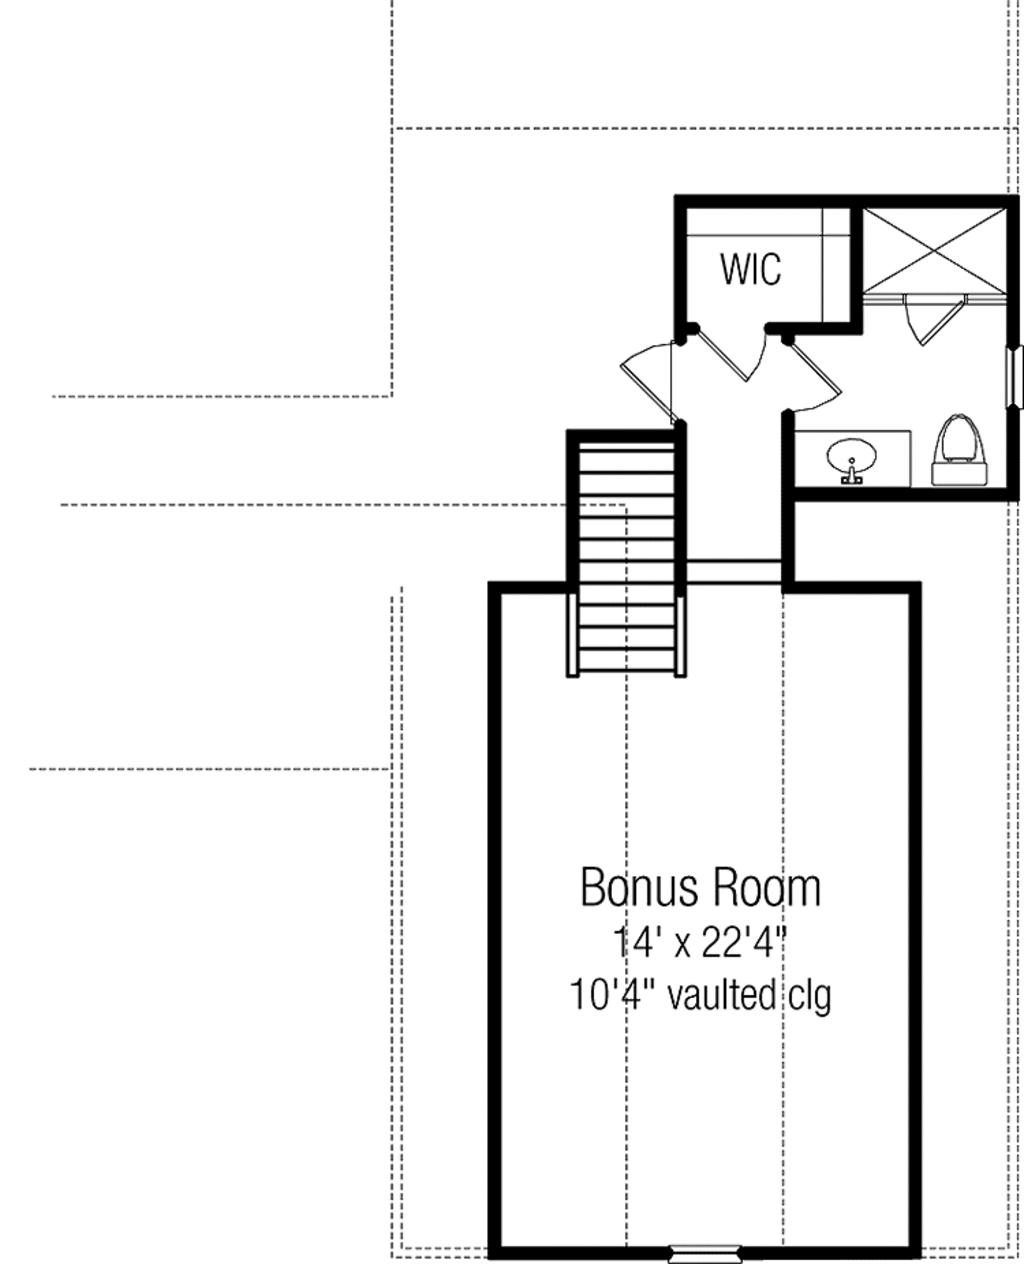door: (781, 332, 845, 418), (618, 333, 681, 418), (691, 320, 770, 385), (905, 291, 964, 349)
large_sink: (920, 401, 995, 491)
small_sink: (810, 432, 899, 489)
stairs: (555, 416, 699, 693)
window: (672, 1245, 741, 1264), (1006, 337, 1024, 403)
